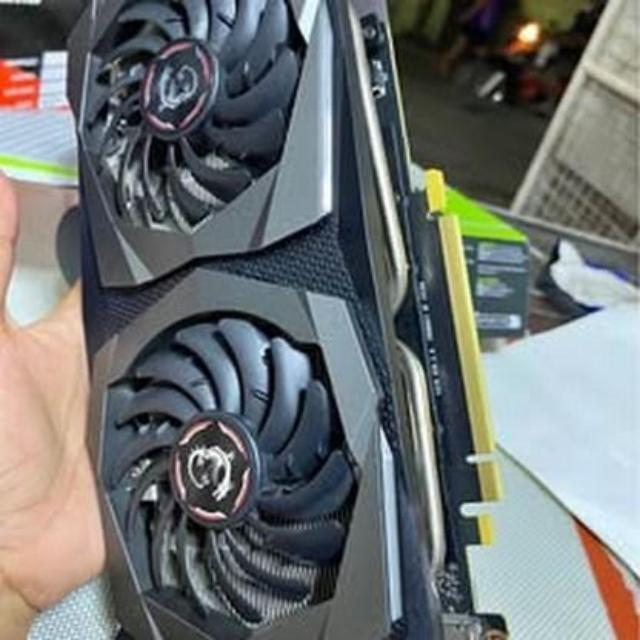GPU: (60, 0, 522, 640)
